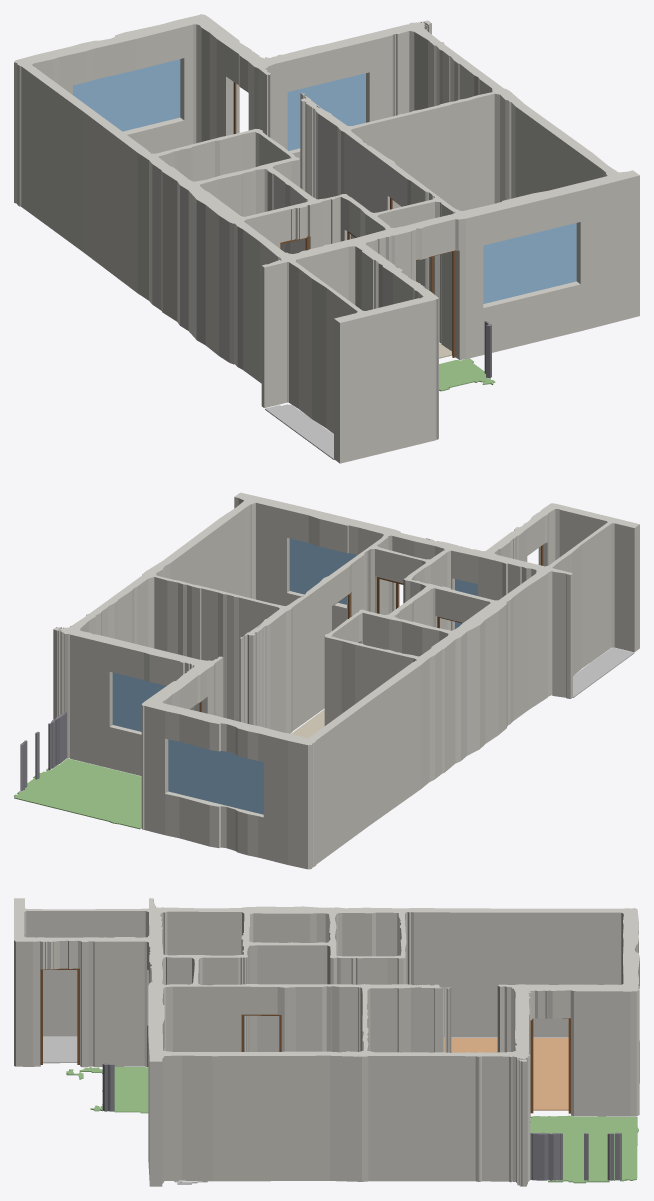
3 views of the same model, one above another, from view 1: azimuth 30°, elevation 25°; view 2: azimuth 150°, elevation 25°; view 3: azimuth 270°, elevation 25° (orthographic). The views are drawn at different scales.
Visible parts, largest first — view 1: walls, window_10, window_8, window_9, floor_11_Storage, floor_1_Outdoor; view 2: walls, floor_2_Outdoor, window_8, window_10, window_9, railings, floor_11_Storage; view 3: walls, floor_2_Outdoor, floor_4_Living_Room, railings, floor_1_Outdoor, floor_12_Storage, door_0, door_7.
Part boxes in pixels (x1,y1,x2,y2): walls: [14, 14, 639, 463]; window_10: [483, 223, 576, 303]; window_8: [73, 59, 180, 131]; window_9: [287, 73, 365, 150]; floor_11_Storage: [265, 404, 334, 459]; floor_1_Outdoor: [439, 358, 495, 391]; walls: [53, 492, 639, 869]; floor_2_Outdoor: [14, 758, 141, 829]; window_8: [168, 739, 263, 814]; window_10: [289, 538, 357, 604]; window_9: [112, 672, 166, 731]; railings: [20, 712, 66, 791]; floor_11_Storage: [573, 647, 634, 697]; walls: [14, 898, 639, 1186]; floor_2_Outdoor: [530, 1115, 638, 1183]; floor_4_Living_Room: [444, 1038, 568, 1110]; railings: [102, 1063, 621, 1180]; floor_1_Outdoor: [79, 1067, 148, 1113]; floor_12_Storage: [43, 1036, 77, 1063]; door_0: [530, 1018, 570, 1113]; door_7: [40, 968, 79, 1064].
Size of the model in its own units: 7.56 by 2.72 by 12.24.
